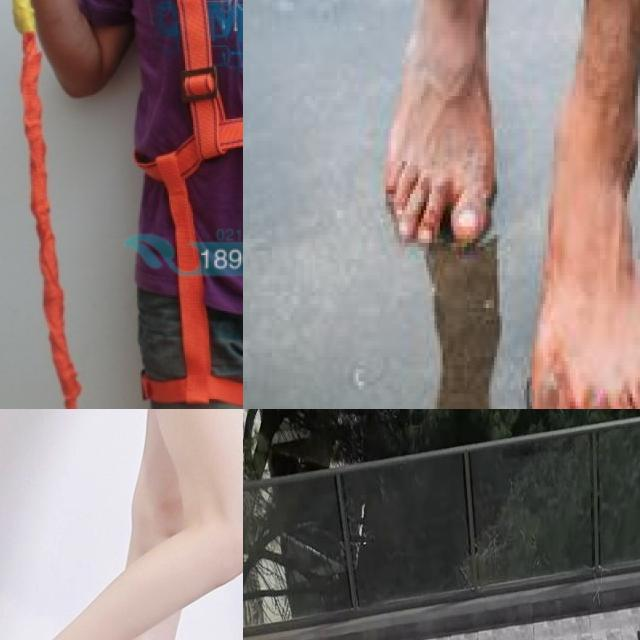Barefoots: (529, 131, 640, 409)
Harness: (117, 0, 243, 409), (128, 0, 243, 169)
